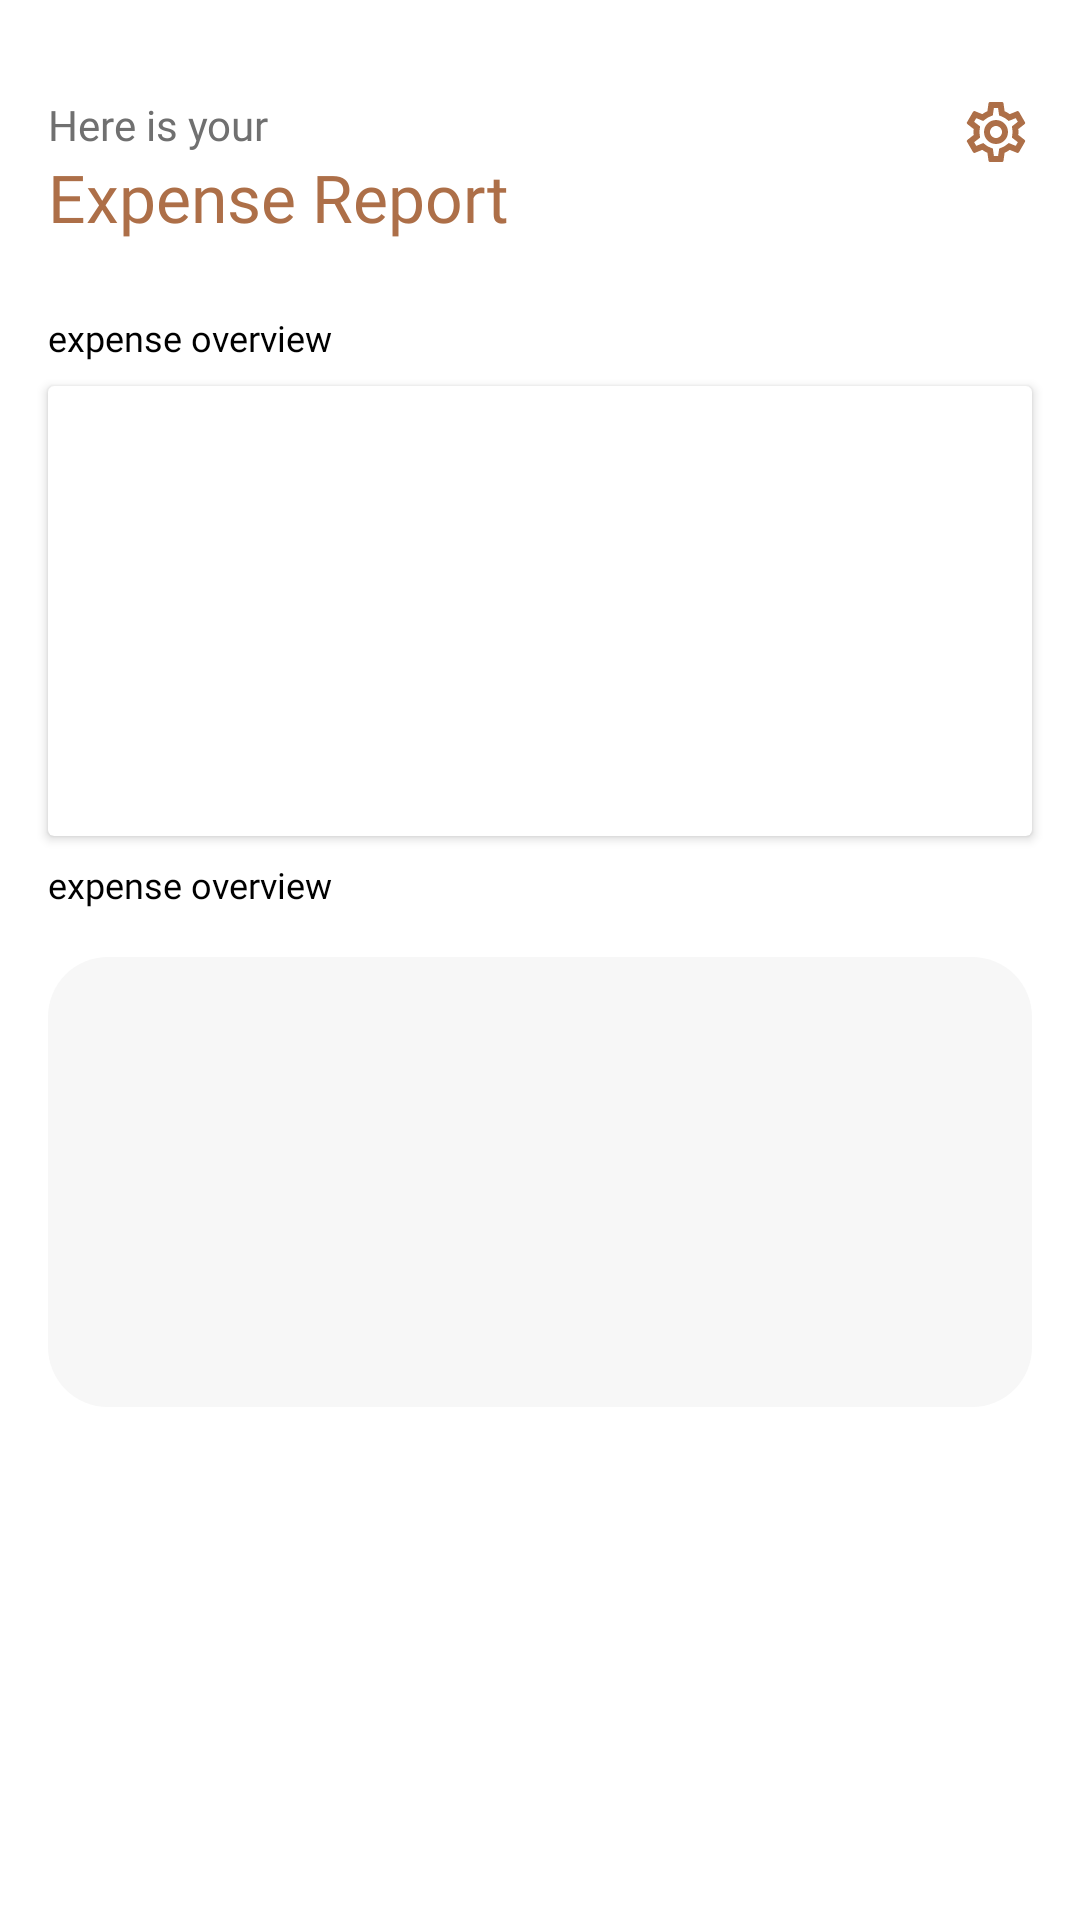

Icon click points for this 1080×1920 phone screenshot, format [x,y]:
settings: [996,132]
